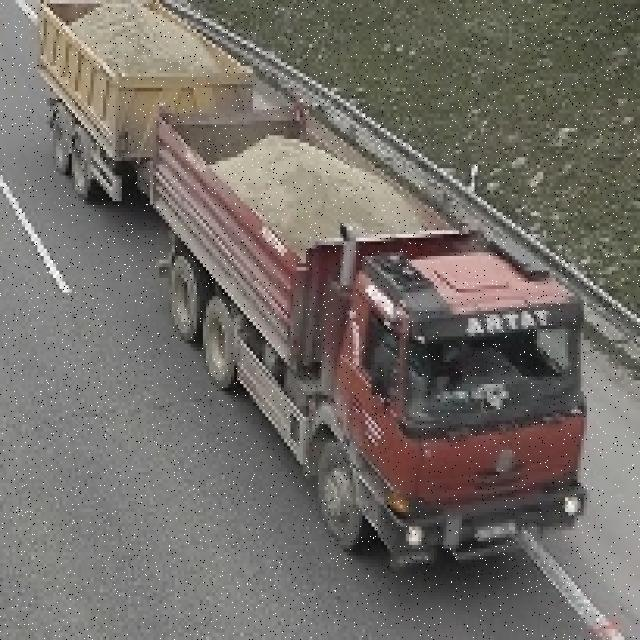truck: (37, 0, 587, 567)
